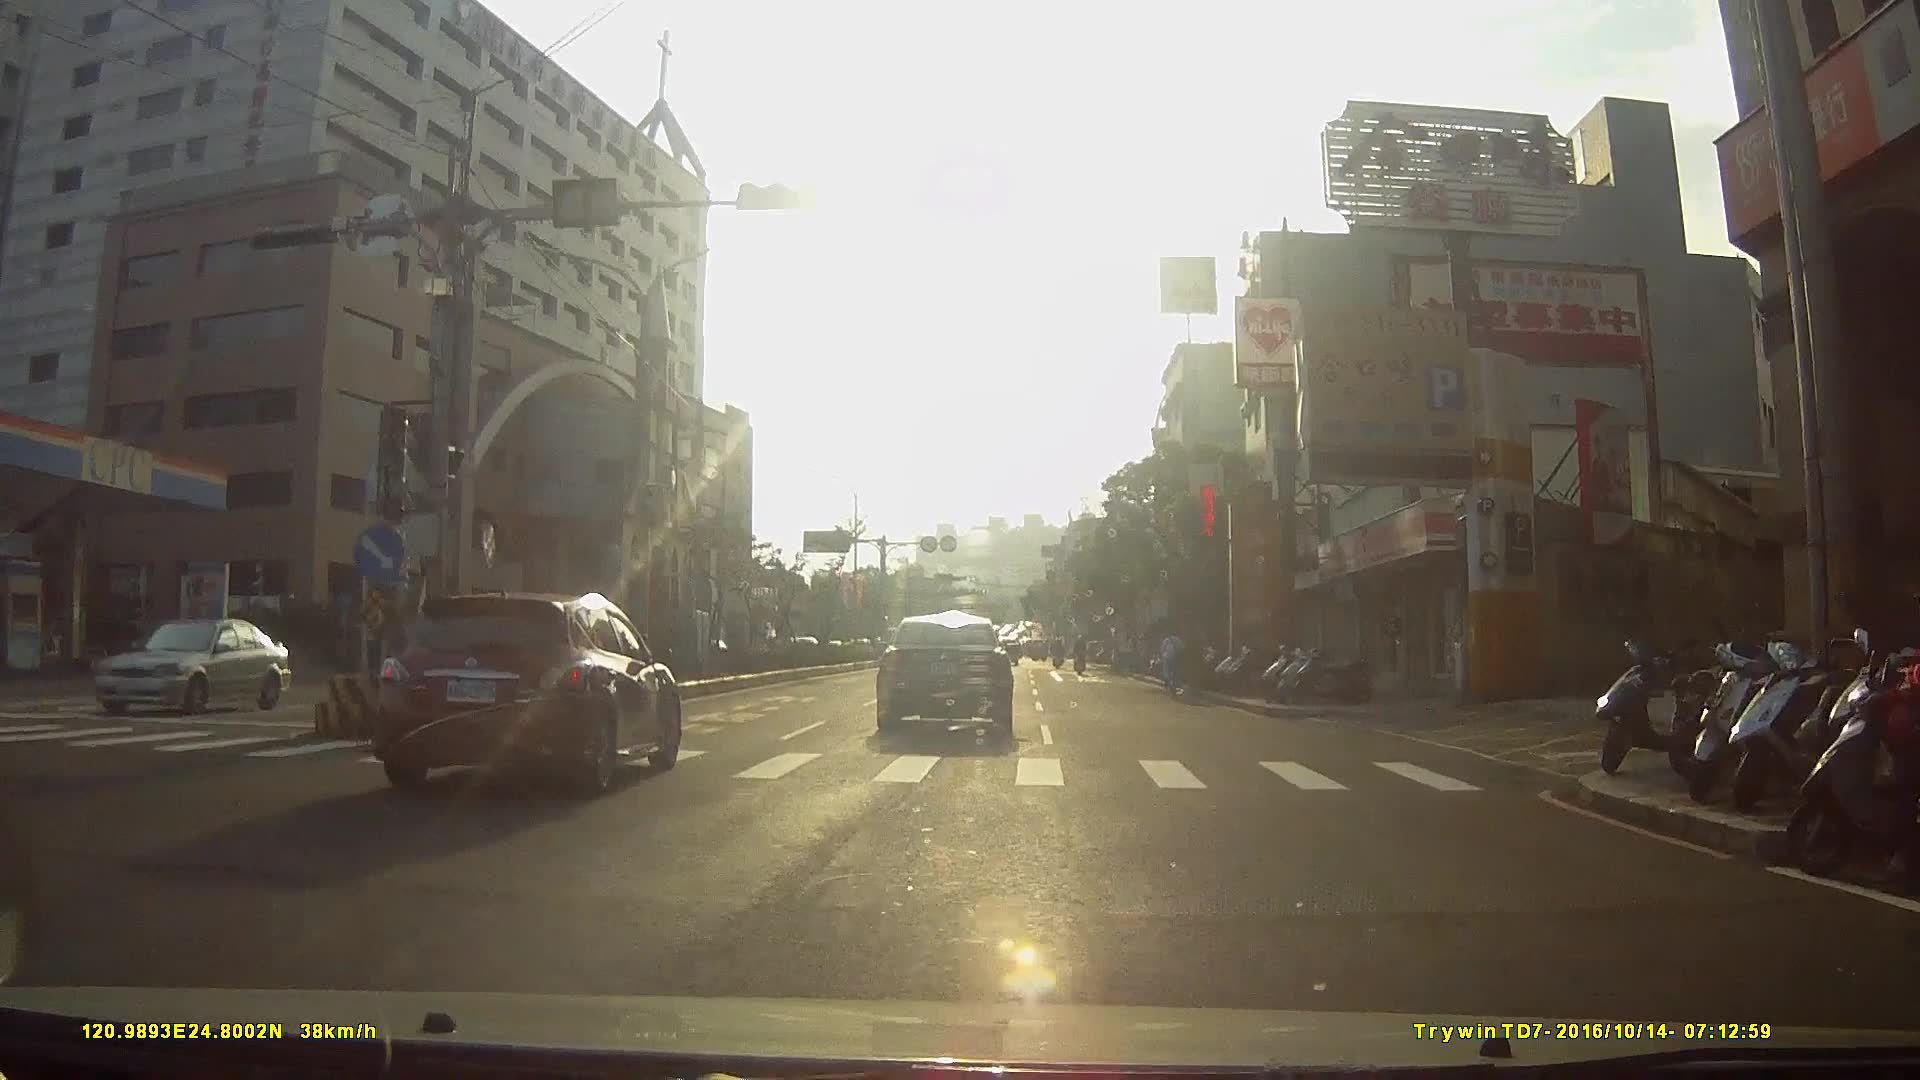rider: (1781, 608, 1920, 895), (1158, 623, 1188, 704)
vehicle: (370, 579, 694, 800), (82, 609, 294, 730), (869, 602, 1022, 738), (763, 607, 822, 662)
